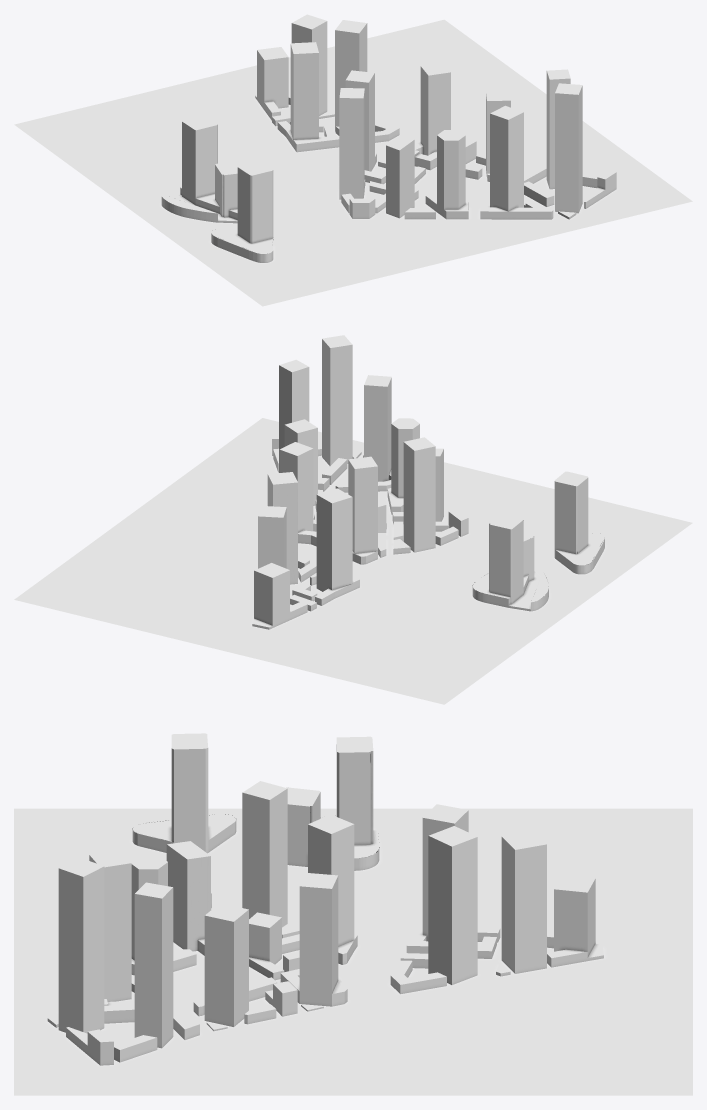
File: city-2.gltf
3 views of the same model, one above another, from view 1: azimuth 30°, elevation 25°; view 2: azimuth 150°, elevation 25°; view 3: azimuth 270°, elevation 25° (orthographic). The views are drawn at different scales.
Visible parts, largest first — view 1: Plane, Pasted; view 2: Plane, Pasted; view 3: Plane, Pasted.
Part boxes in pixels (box(x1,y1,x2,y2)): Plane: box(14, 19, 692, 306); Pasted: box(161, 14, 616, 262); Plane: box(14, 418, 692, 704); Pasted: box(252, 335, 604, 629); Plane: box(14, 808, 692, 1095); Pasted: box(47, 733, 603, 1065).
Bounding box in the file's own units: 1490 × 392 × 1490.
Materials: 2 (2 with a texture image).
